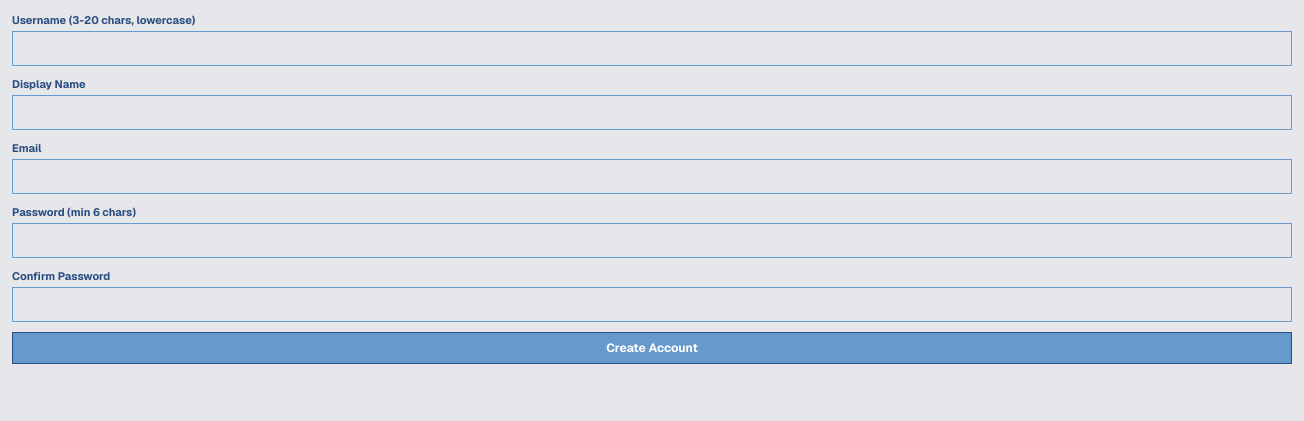
Test: signup form (AuthForm) › displays the error returned by the action
The width and height of the screenshot is (1304, 421).
Type "taken" into the field labelled "Username (3-20 chars, lowercase)" at (652, 48), box [12,30,1292,66]
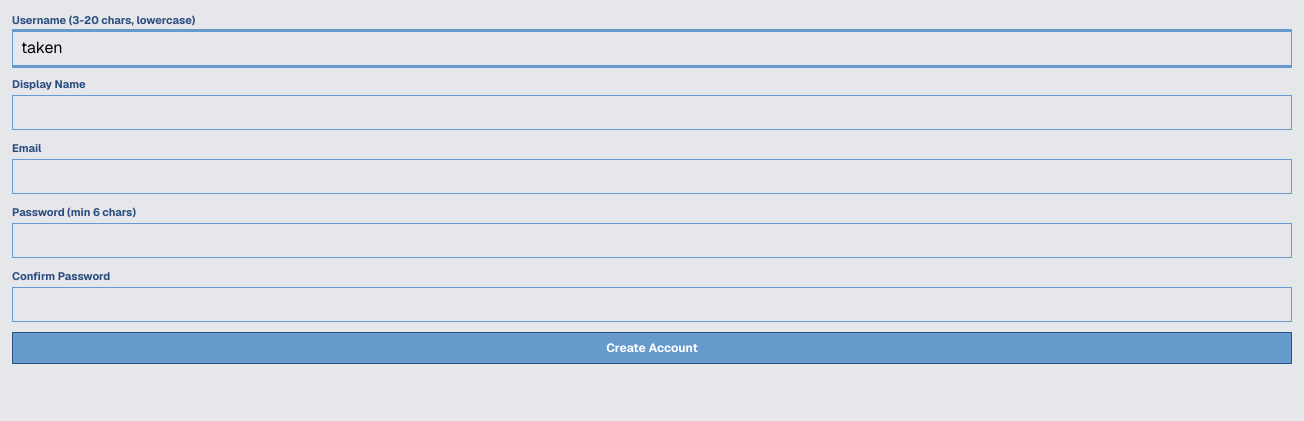
Type "Taken User" into the field labelled "Display Name" at (652, 112), box [12,95,1292,130]
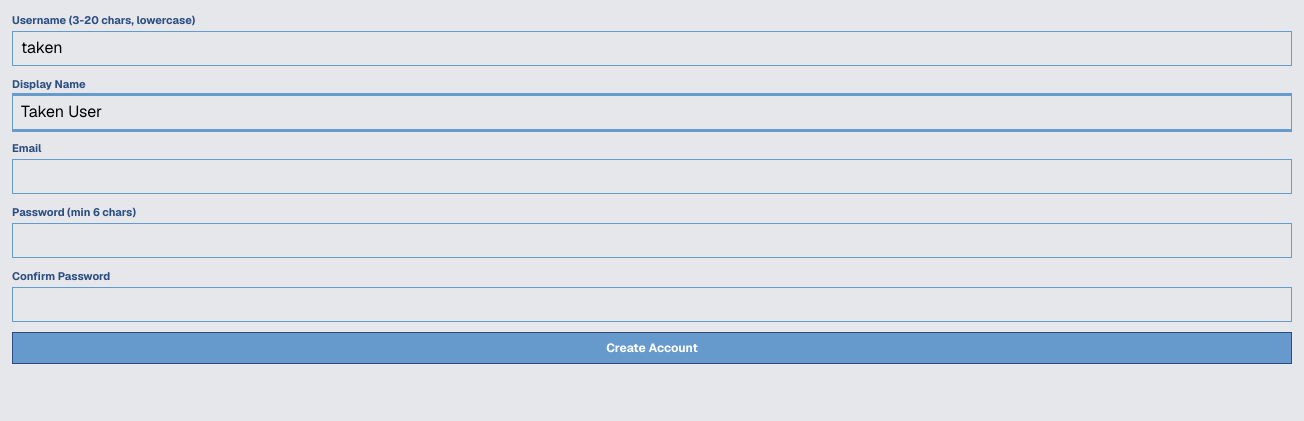
Type "taken@example.com" into the field labelled "Email" at (652, 176), box [12,159,1292,194]
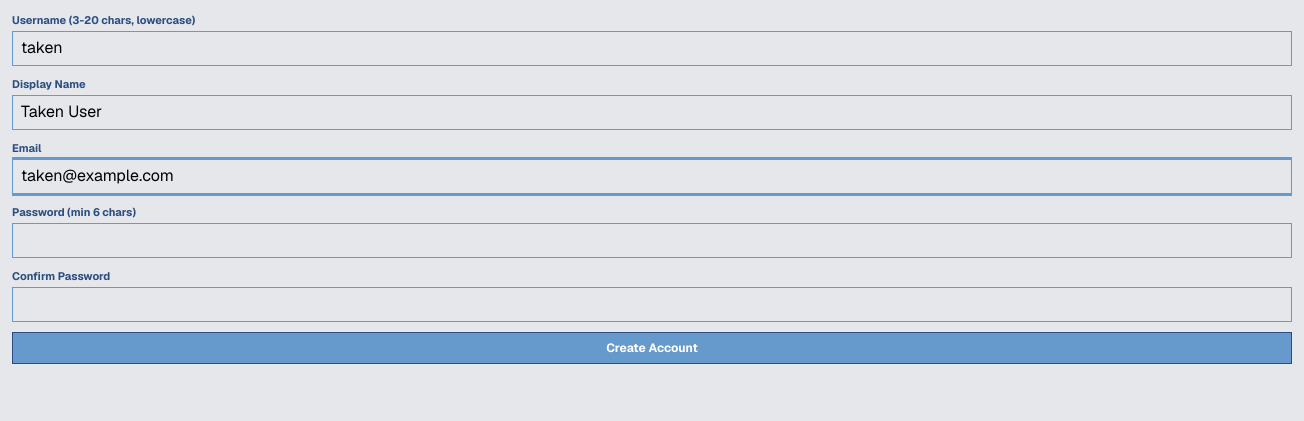
Type "secret123" into the password field labelled "Password (min 6 chars)" at (652, 241), box [12,223,1292,258]
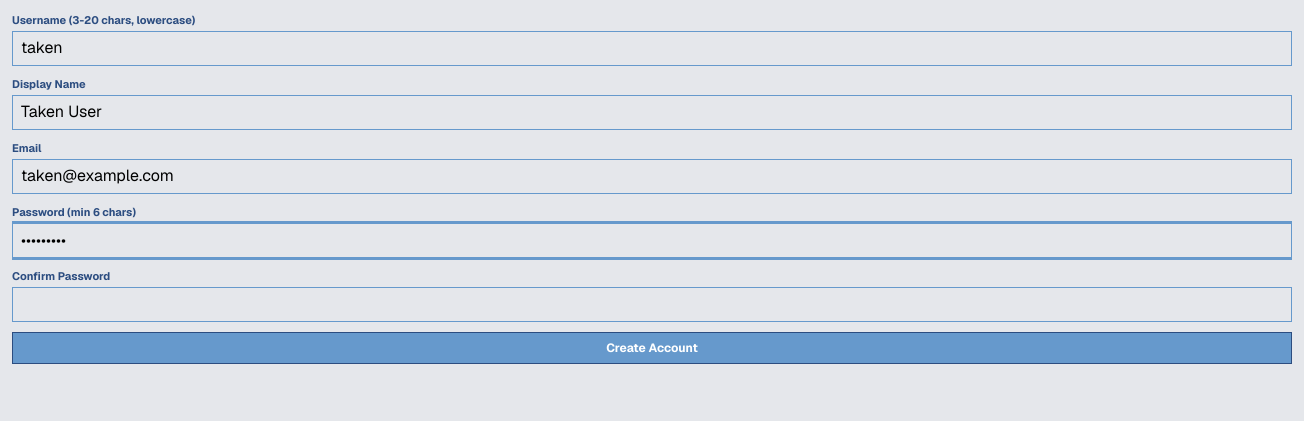
Type "secret123" into the password field labelled "Confirm Password" at (652, 305), box [12,287,1292,322]
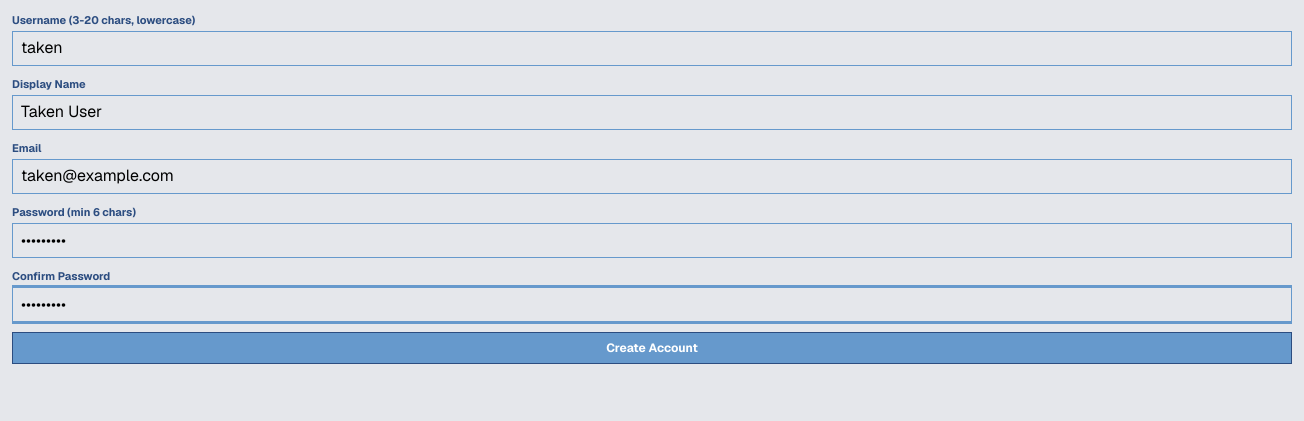
Click the button "Create Account" at (652, 348), box [12,332,1292,364]
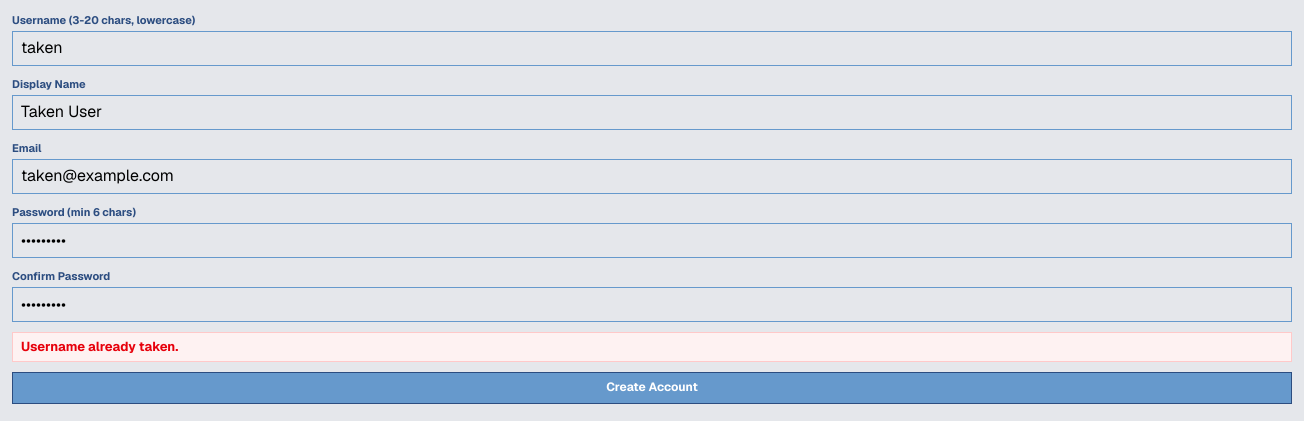
Now the message reads "Username already taken.", box [21,338,178,356]
